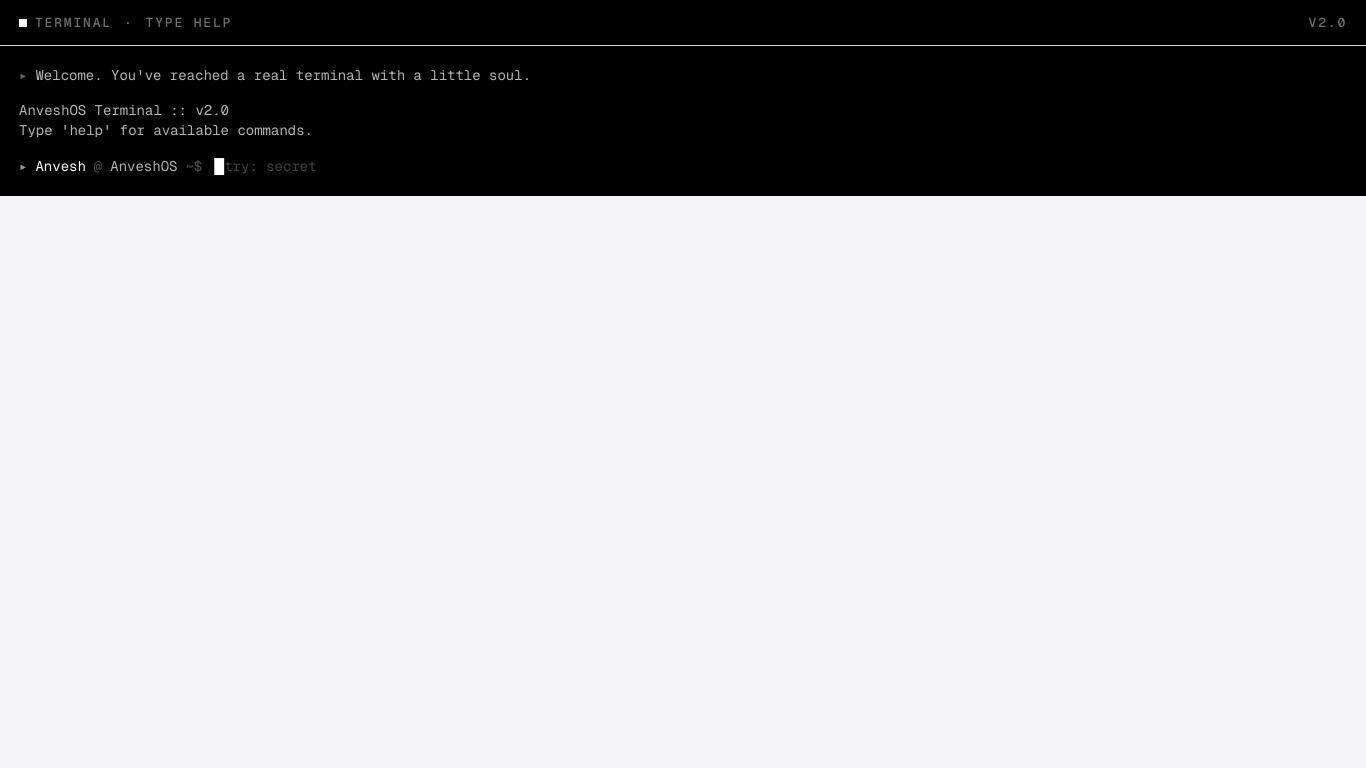
Test case: TerminalApp command loop (must keep working) › clear empties the feed
In the field named "Terminal command input": (265, 166) [214,159,317,173], type "help"
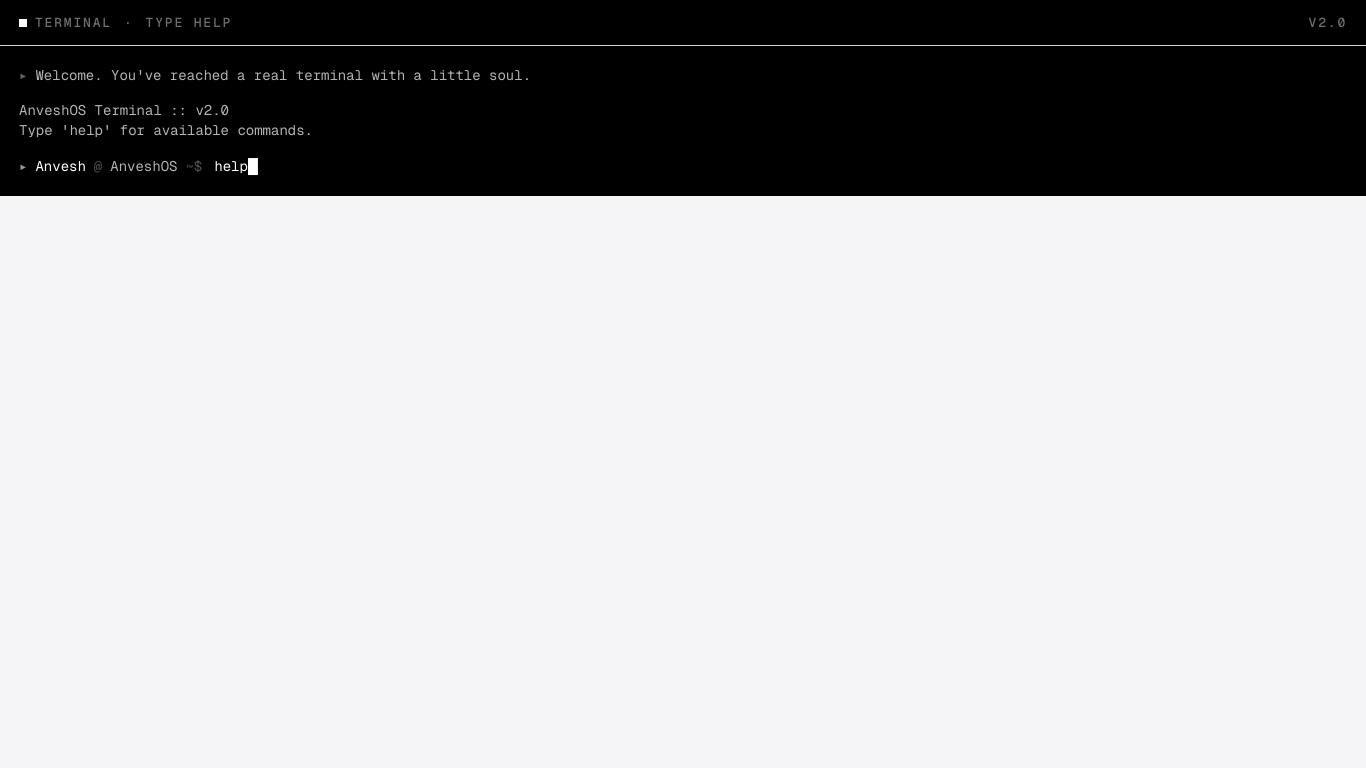
Press Enter in the field named "Terminal command input", box [214,159,258,173]
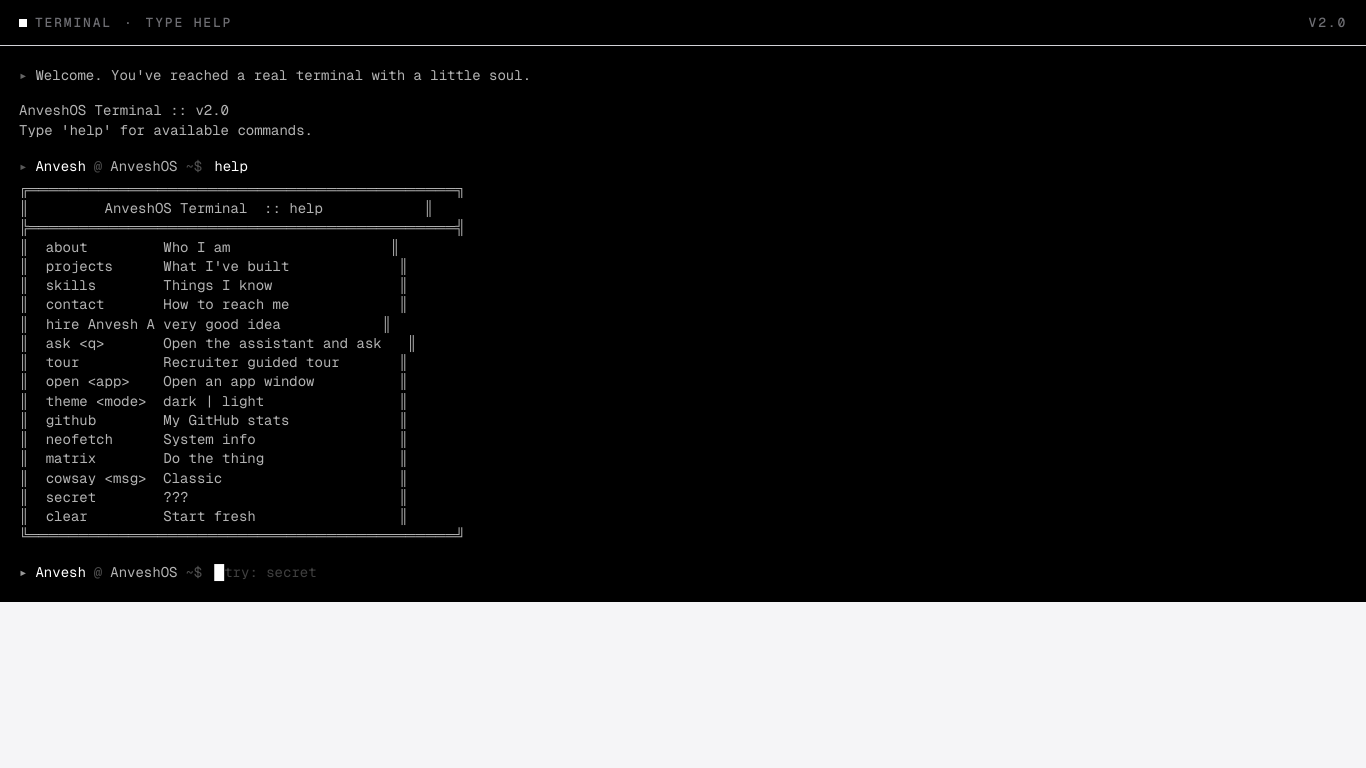
expect the text "║ AnveshOS Terminal :: help ║" is shown: met, box [19,199,434,217]
In the field named "Terminal command input": (265, 572) [214,564,317,578], type "clear"
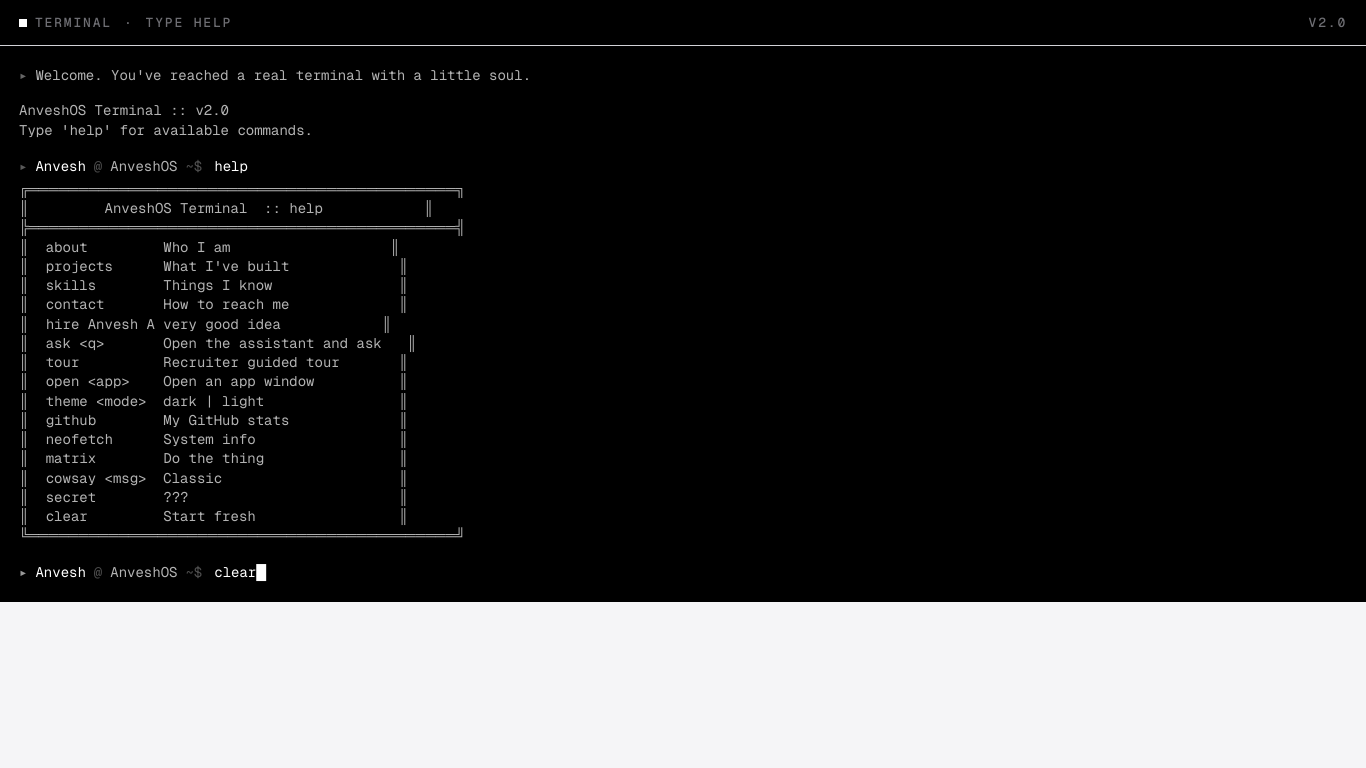
Press Enter in the field named "Terminal command input", box [214,564,266,578]
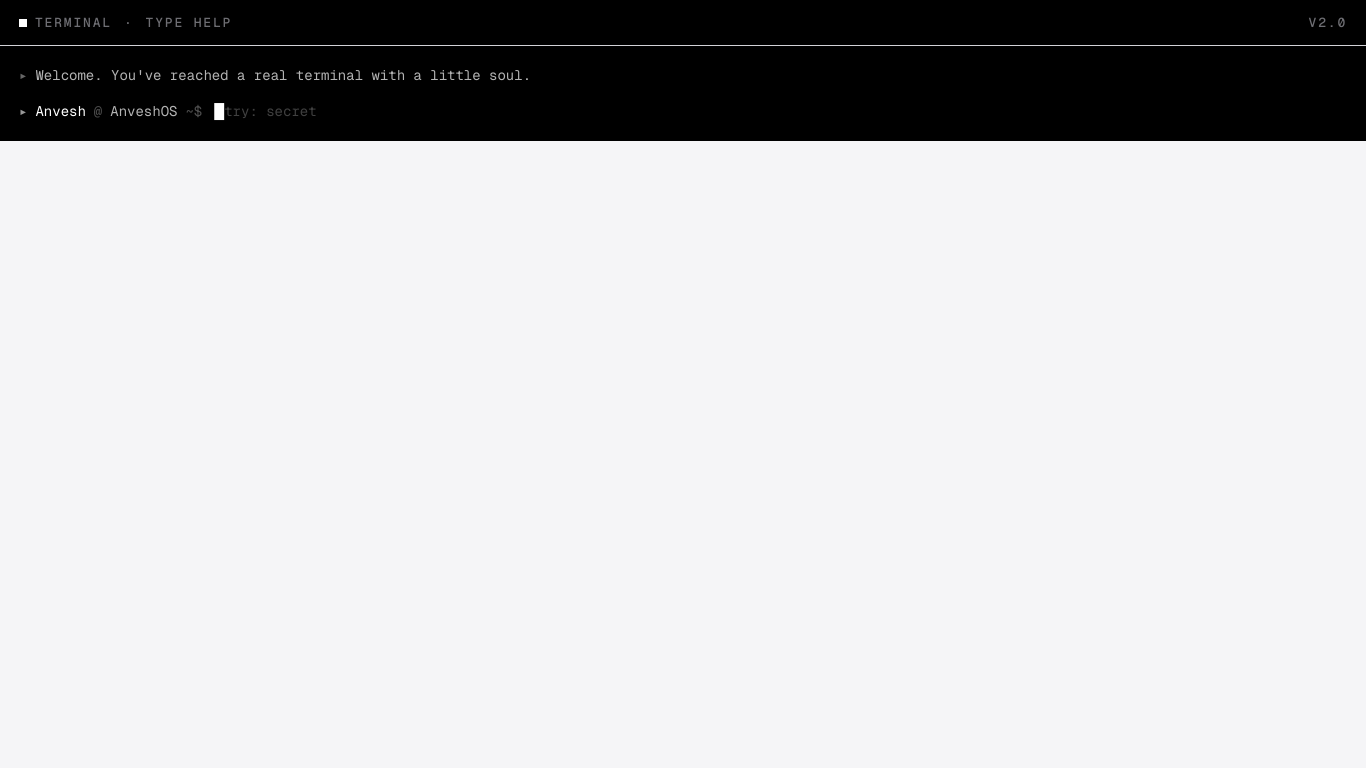
expect the text "║ AnveshOS Terminal :: help ║" is gone: met
